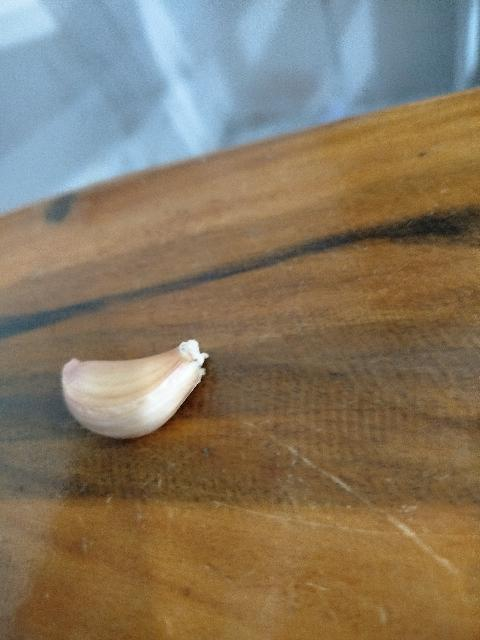garlic: (60, 338, 210, 439)
